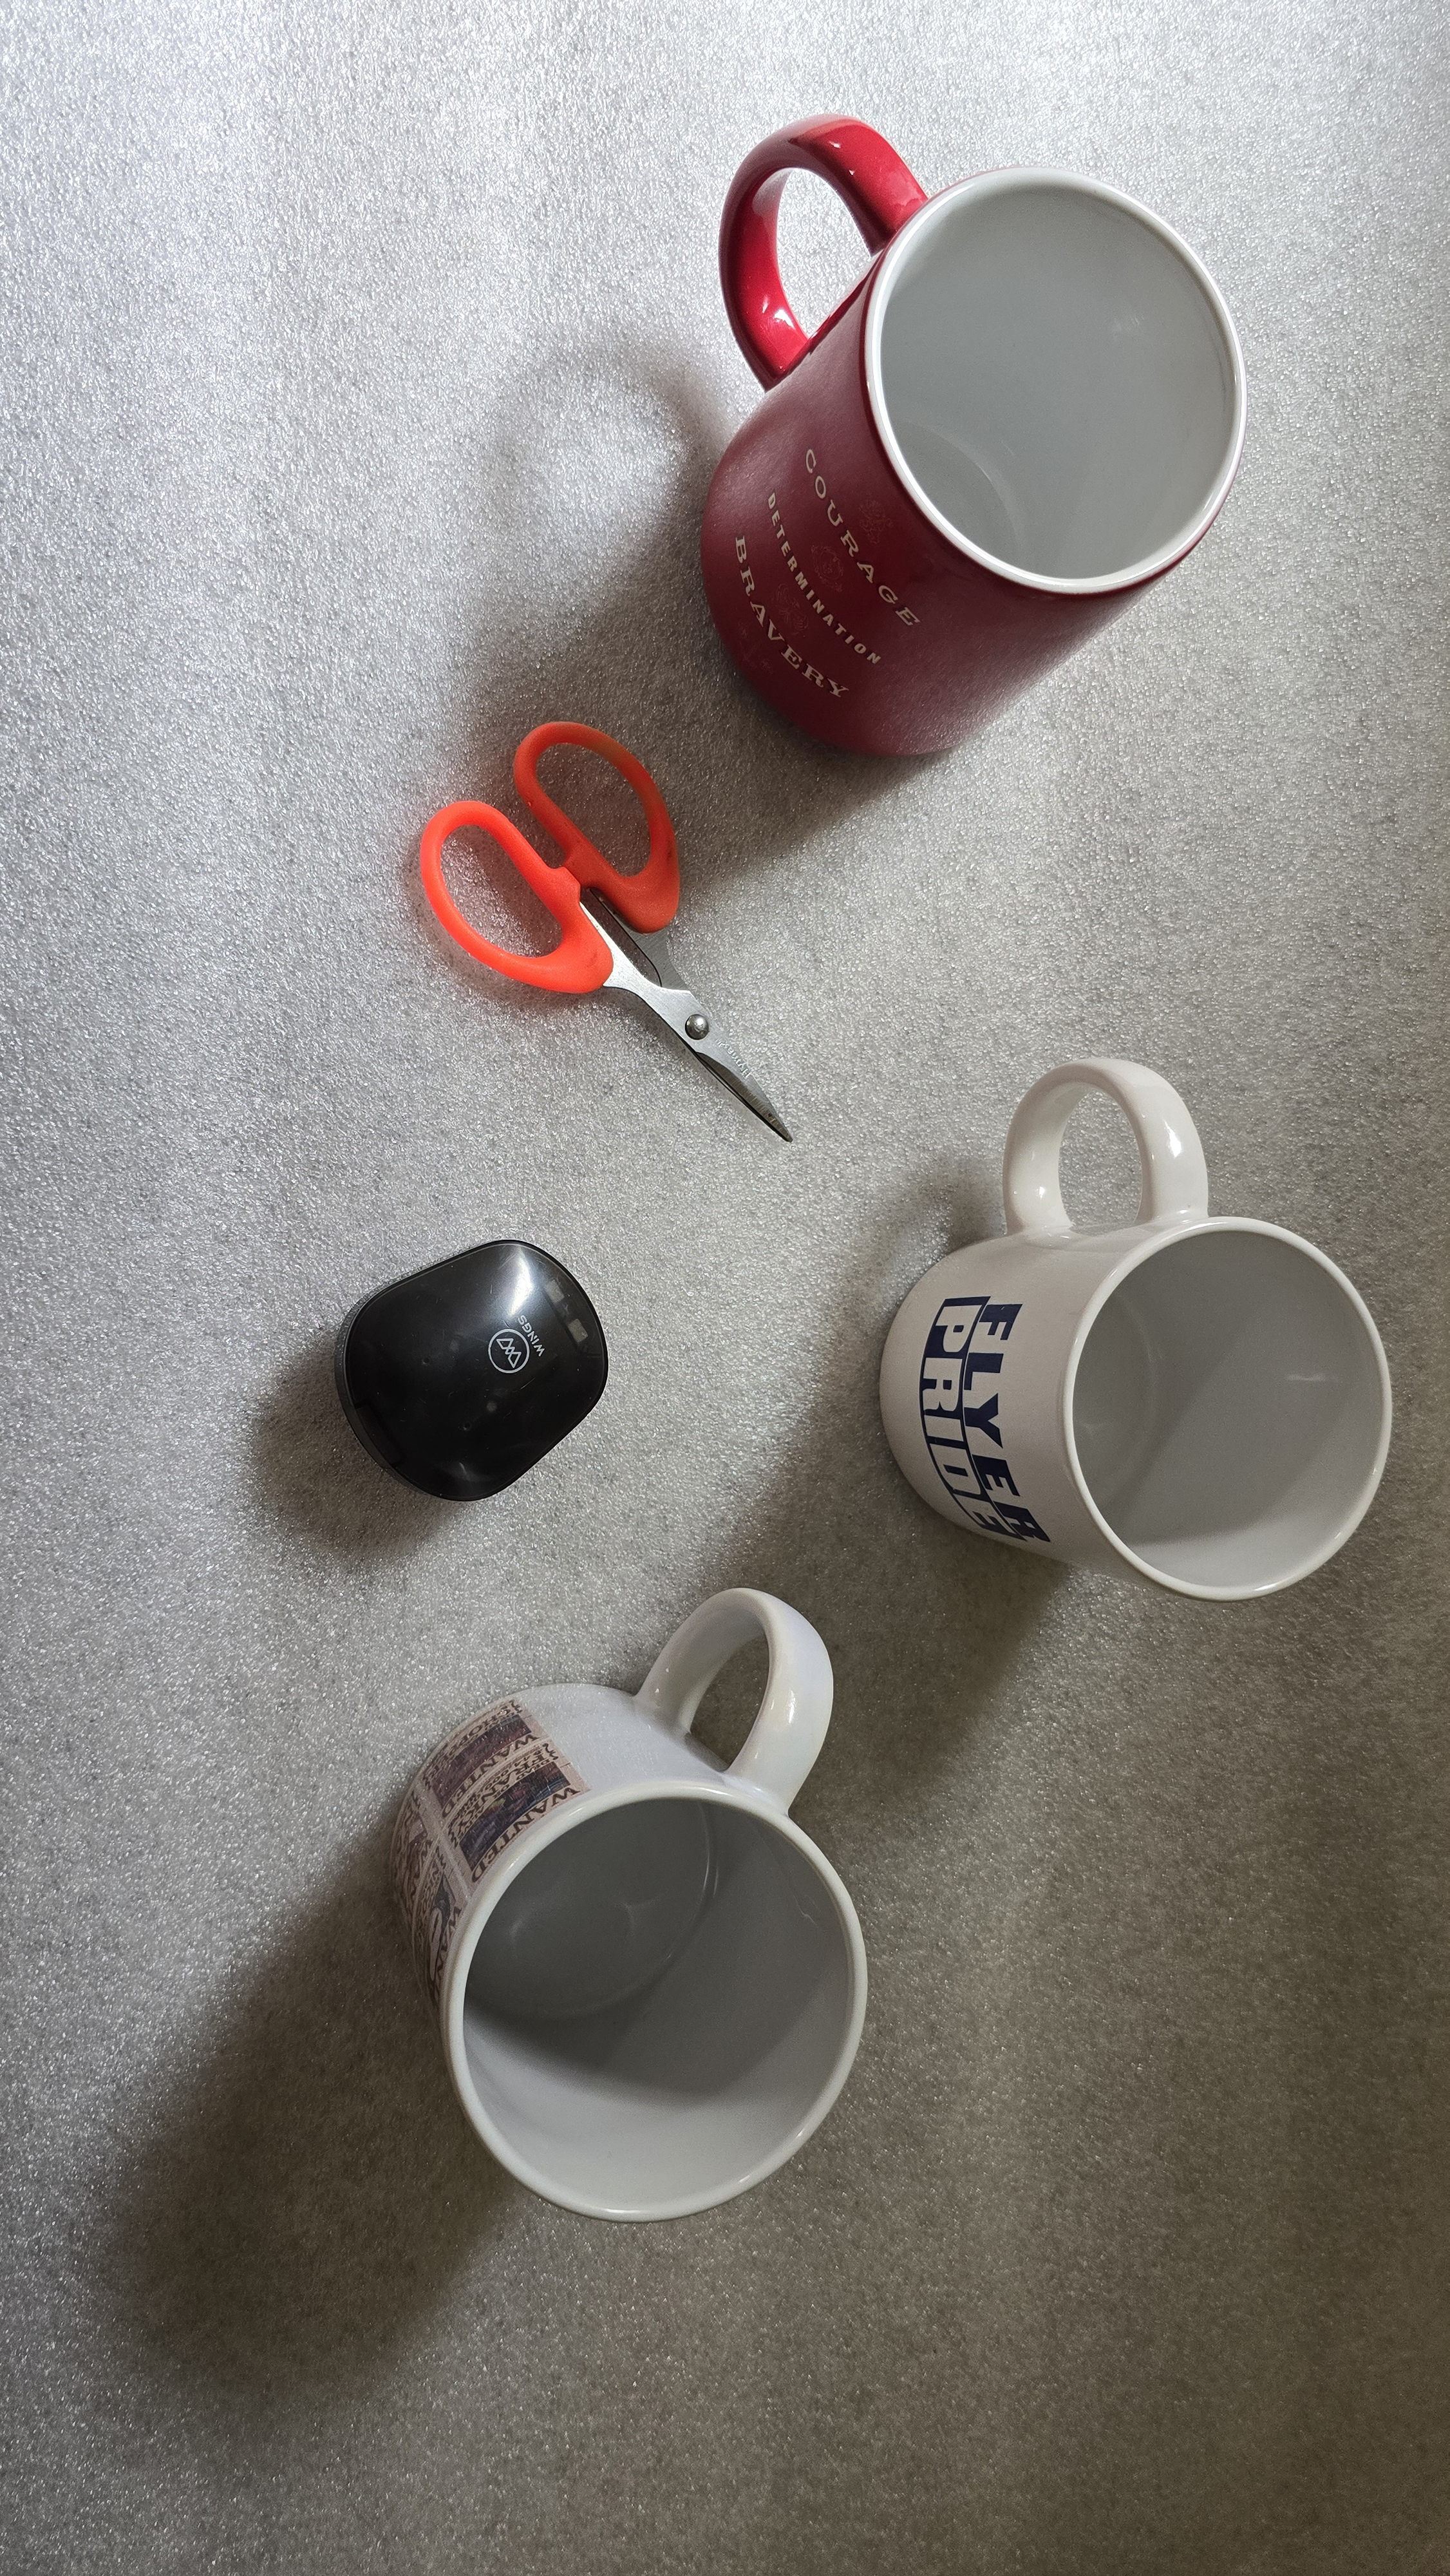mug: (702, 115, 1319, 747), (822, 1024, 1436, 1642), (354, 1610, 935, 2229)
